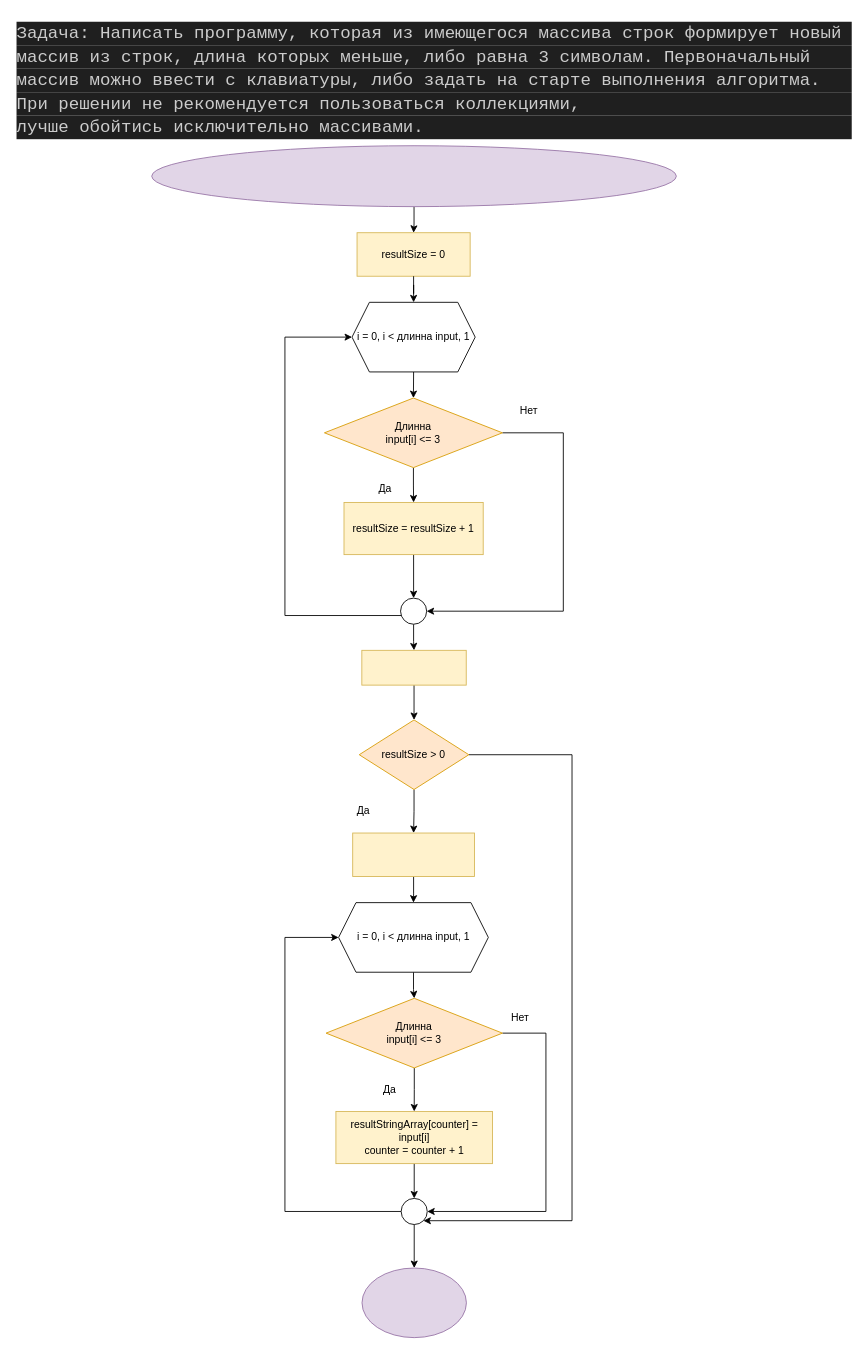
Image size: 867x1353. Some labels were removed from this diagram. Here are the shapes that lost their labels. From the top down, the centre of each, then its label:
the point at 413,176: Начало GetStringsLessOrEqualThree( string [] input )
the point at 413,667: resultStringArray
the point at 413,854: counter = 0
the point at 413,1302: Конец
